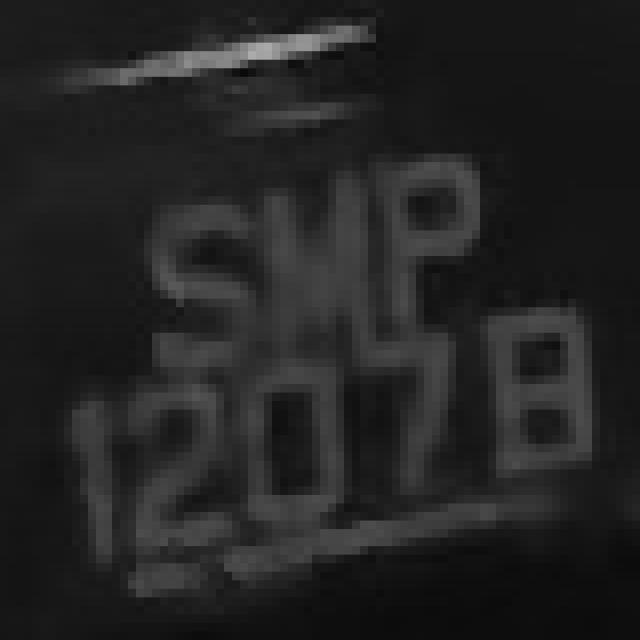0: (248, 350, 352, 546)
1: (24, 384, 128, 589)
2: (120, 350, 240, 555)
7: (352, 307, 472, 529)
B: (472, 290, 608, 504)
M: (248, 162, 376, 341)
P: (368, 136, 504, 333)
S: (128, 205, 256, 392)
